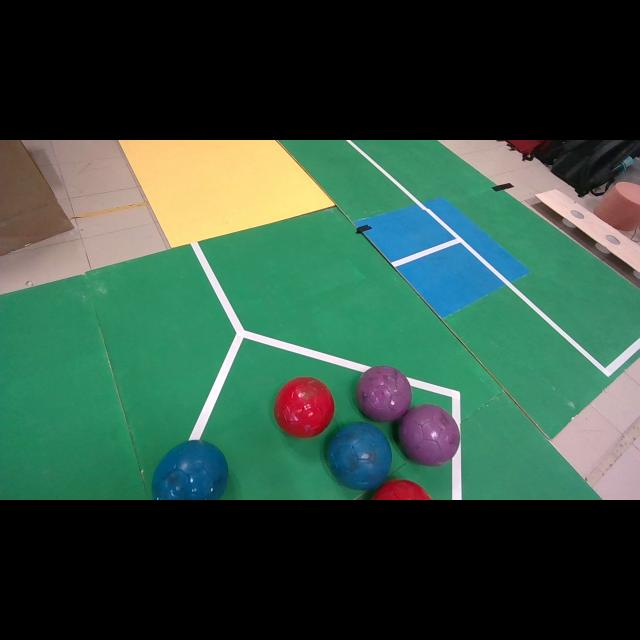B: (151, 440, 228, 500), (328, 422, 391, 489)
P: (399, 404, 460, 466), (356, 365, 411, 421)
R: (274, 376, 335, 438), (372, 479, 432, 500)
